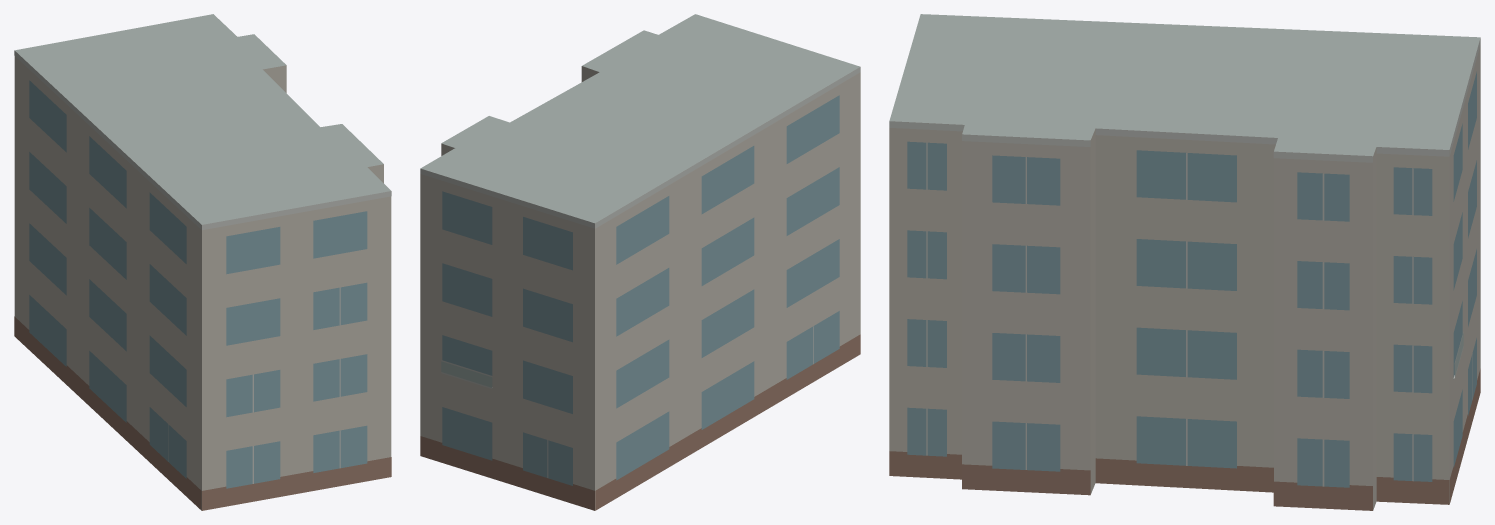
The model's file is survey-upis-32672201.glb.
3 views of the same model, side by side, from view 1: azimuth 30°, elevation 25°; view 2: azimuth 150°, elevation 25°; view 3: azimuth 270°, elevation 25° (orthographic). The views are drawn at different scales.
Visible parts, largest first — view 1: survey-upis-32672201.tmp; view 2: survey-upis-32672201.tmp; view 3: survey-upis-32672201.tmp.
Part boxes in pixels (x1,y1,x2,y2): survey-upis-32672201.tmp: (14, 14, 391, 510); survey-upis-32672201.tmp: (420, 14, 860, 510); survey-upis-32672201.tmp: (889, 14, 1480, 510).
Size of the model in its own units: 11.18 by 13 by 19.65.
